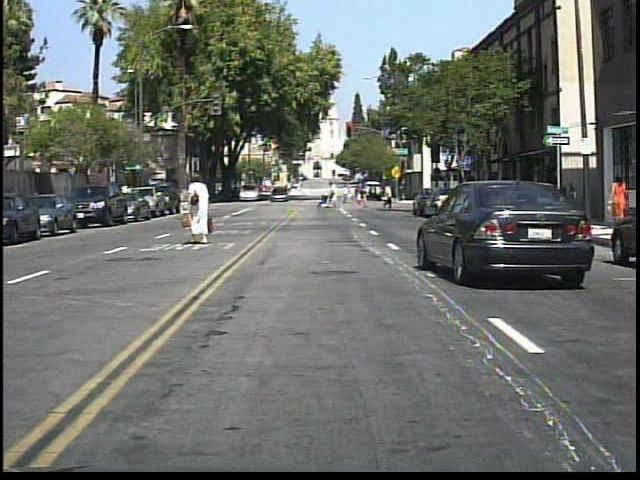person: (181, 168, 223, 251), (607, 167, 633, 228), (497, 170, 516, 219), (380, 181, 397, 212), (328, 180, 341, 210)
